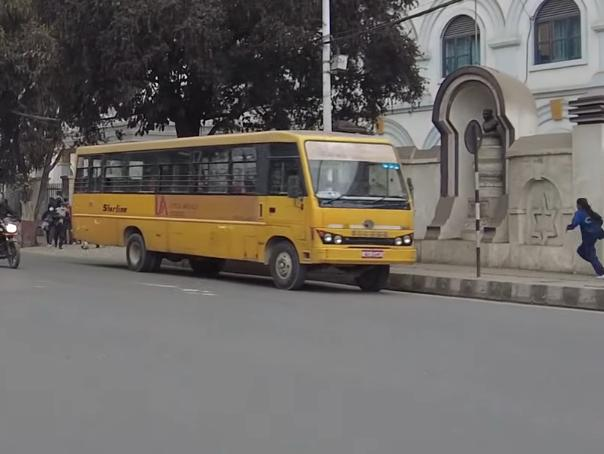bike: (0, 209, 25, 275)
school_bus: (66, 125, 425, 298)
